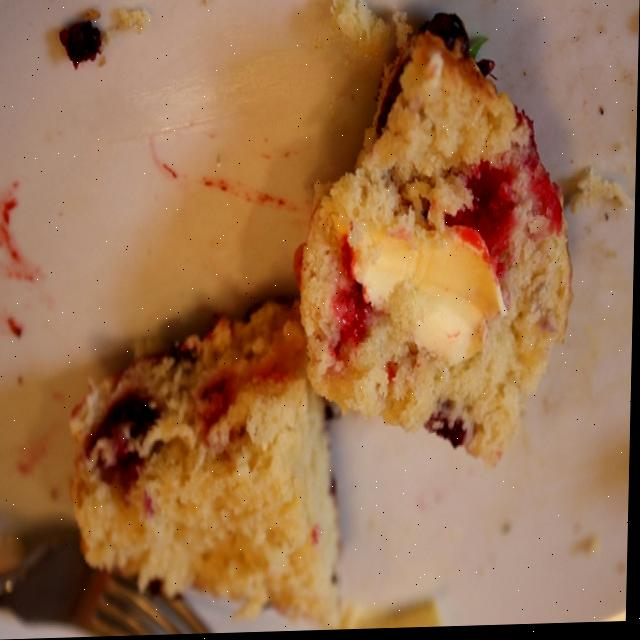面包点心: (69, 22, 577, 634)
